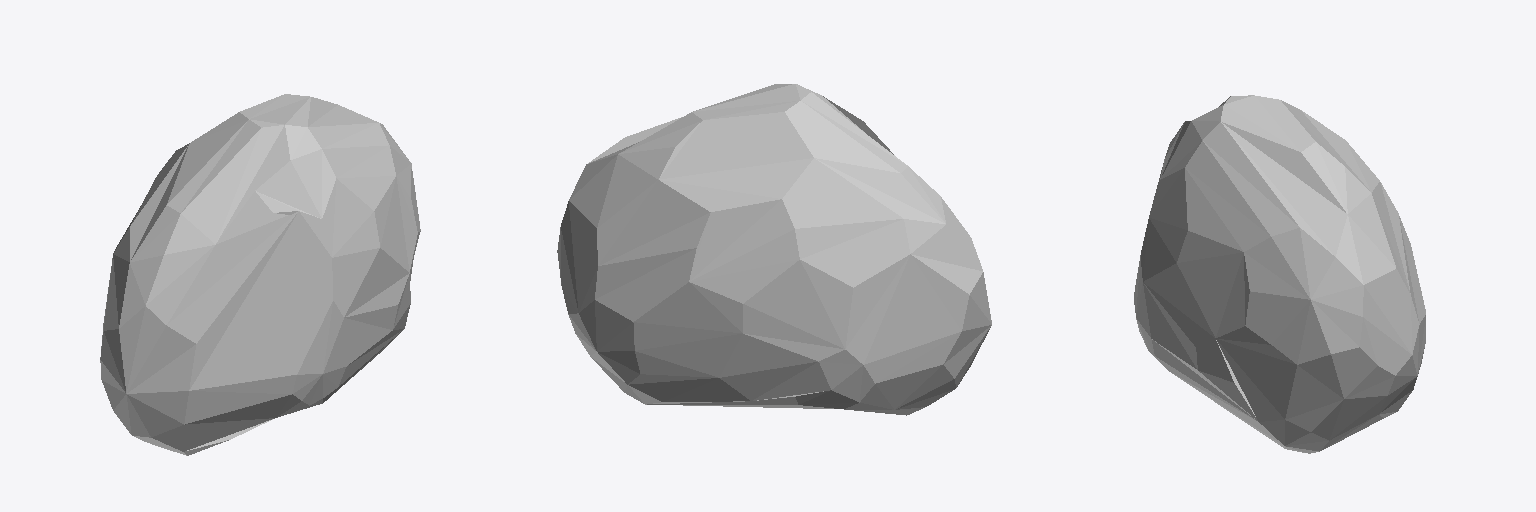
File: bush.obj
3 renders of one model, left to right at view 1: azimuth 30°, elevation 25°; view 2: azimuth 150°, elevation 25°; view 3: azimuth 270°, elevation 25°, orthographic.
Visible parts, largest first — view 1: Icosphere.015; view 2: Icosphere.015; view 3: Icosphere.015.
Boxes of the visible parts, x1,y1,x2,y2 form: Icosphere.015: [100, 94, 420, 455]; Icosphere.015: [557, 84, 991, 415]; Icosphere.015: [1134, 95, 1425, 453].
Size of the model in its own units: 2.1 by 1.72 by 1.51.